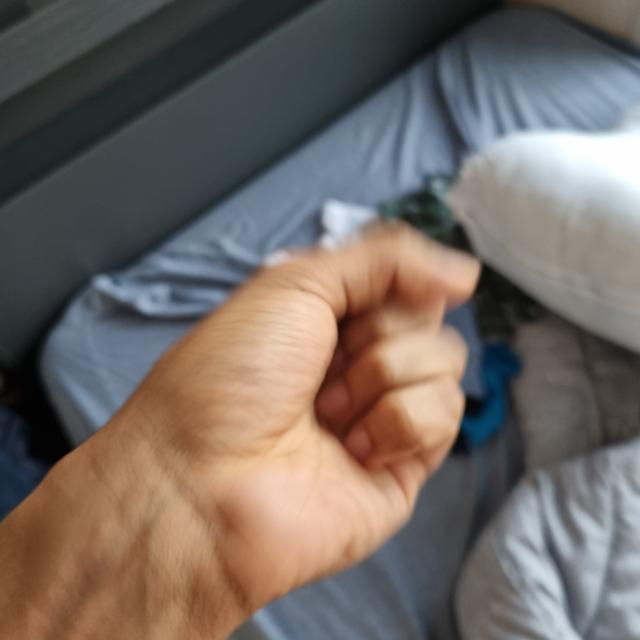Rock: (90, 226, 481, 603)
